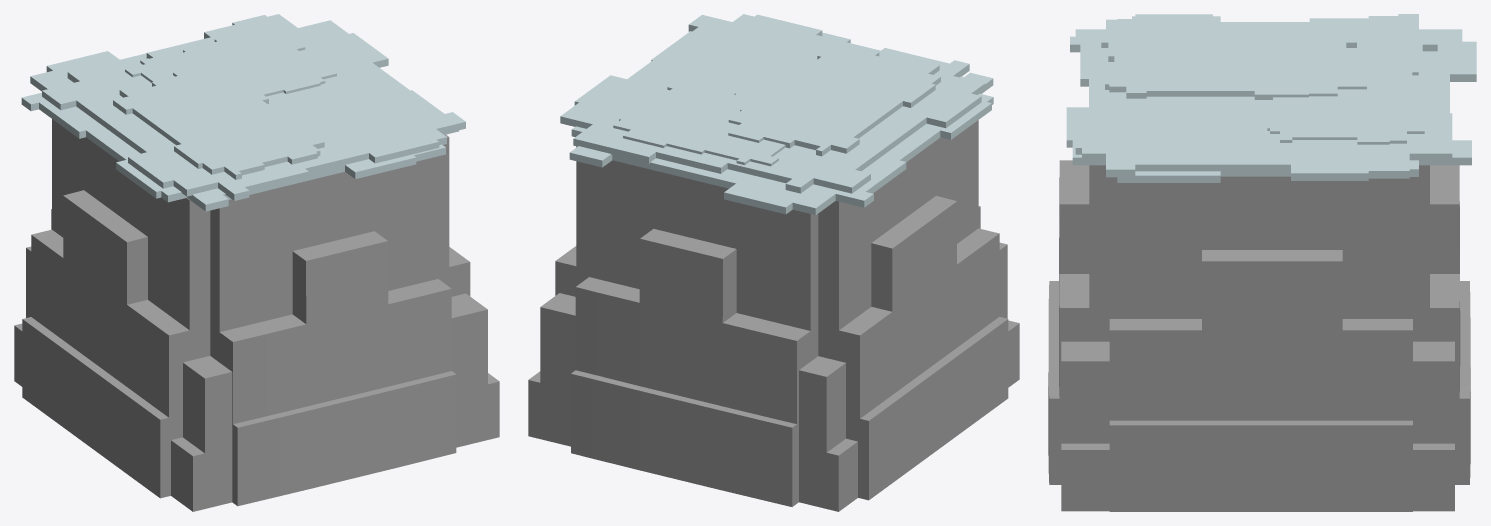
File: CliffGeo.fbx
3 views of the same model, side by side, from view 1: azimuth 30°, elevation 25°; view 2: azimuth 150°, elevation 25°; view 3: azimuth 270°, elevation 25° (orthographic). The views are drawn at different scales.
Visible parts, largest first — view 1: Cliff3Shape; view 2: Cliff3Shape; view 3: Cliff3Shape.
Boxes of the visible parts, <box> form: Cliff3Shape: <box>14,14,499,511</box>; Cliff3Shape: <box>528,14,1019,511</box>; Cliff3Shape: <box>1048,14,1476,511</box>.
Bounding box in the file's own units: 952 × 881 × 1005.
